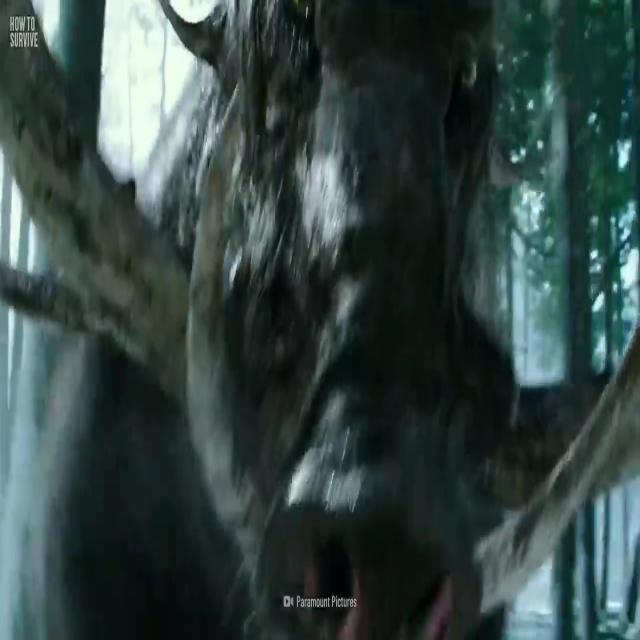pig: (65, 0, 592, 640)
